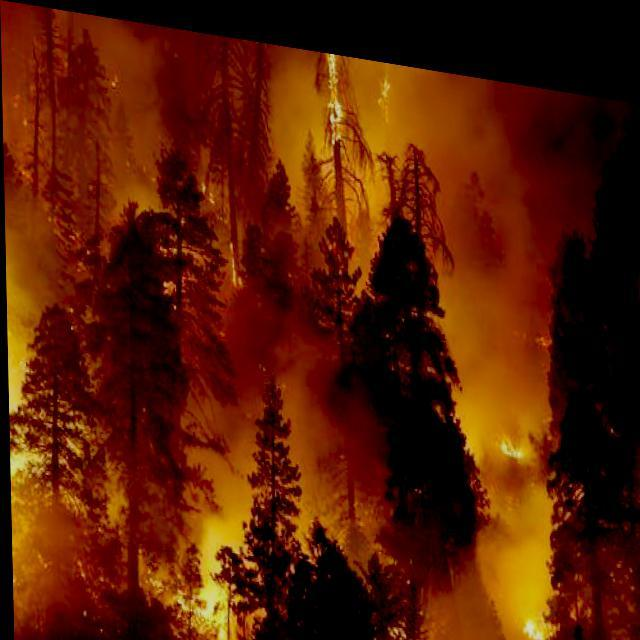Fire: (172, 559, 250, 639), (496, 408, 537, 474), (518, 568, 554, 636), (225, 224, 243, 284)
